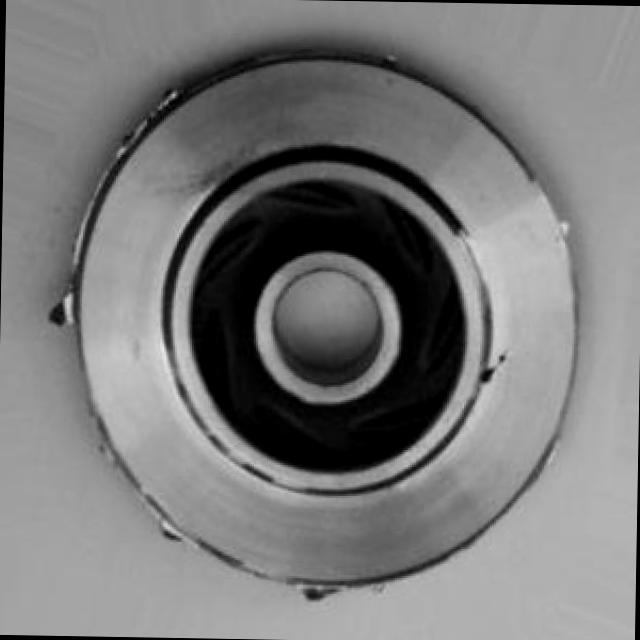Defect: (39, 278, 90, 342)
